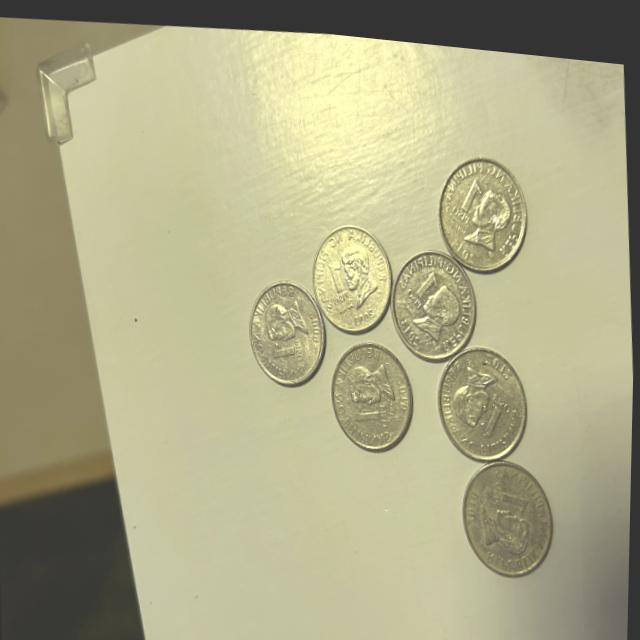1_Old_Front: (490, 461, 537, 510), (325, 248, 357, 308), (482, 376, 513, 437), (356, 391, 396, 432), (452, 163, 484, 209), (408, 254, 439, 297), (273, 325, 303, 366)
